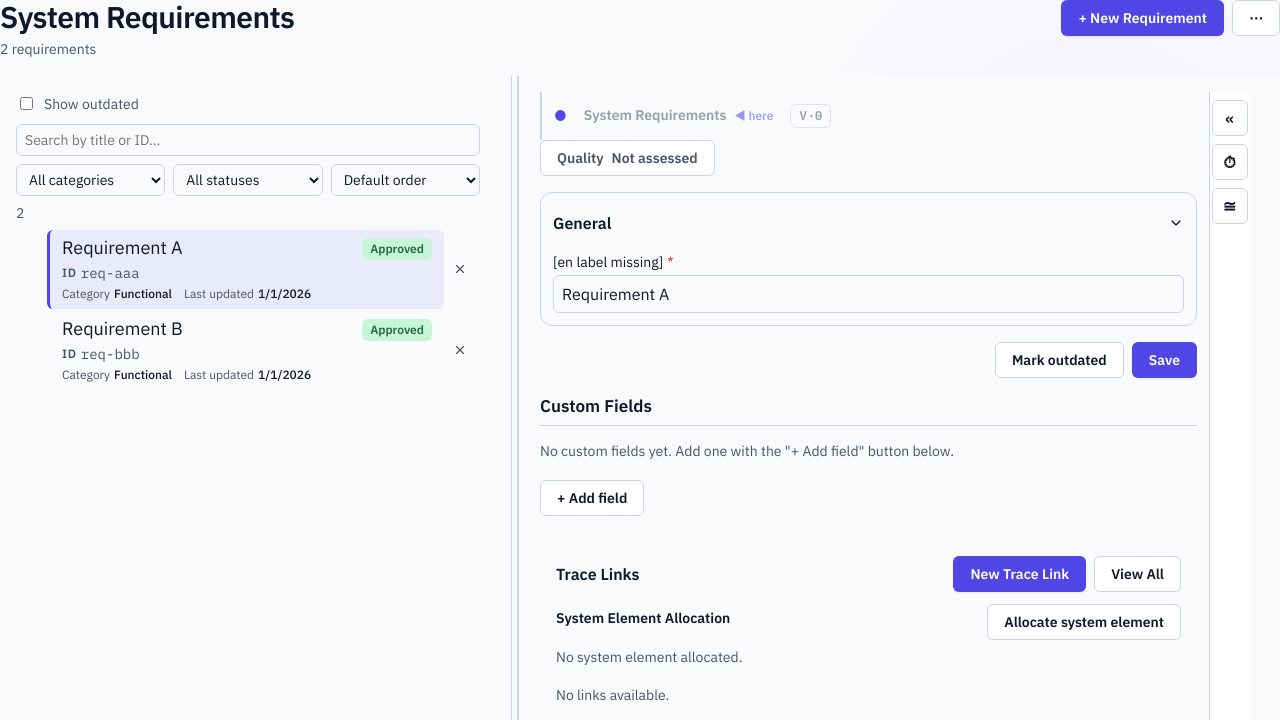
Test case: RequirementEditors — unsaved-changes confirmation before tree navigation (#672) › navigates and discards the unsaved edit once the user confirms
Replace the text in the field with test id "artifact-field-title" with "Unsaved edit": (868, 294) x1=553 y1=275 x2=1184 y2=313
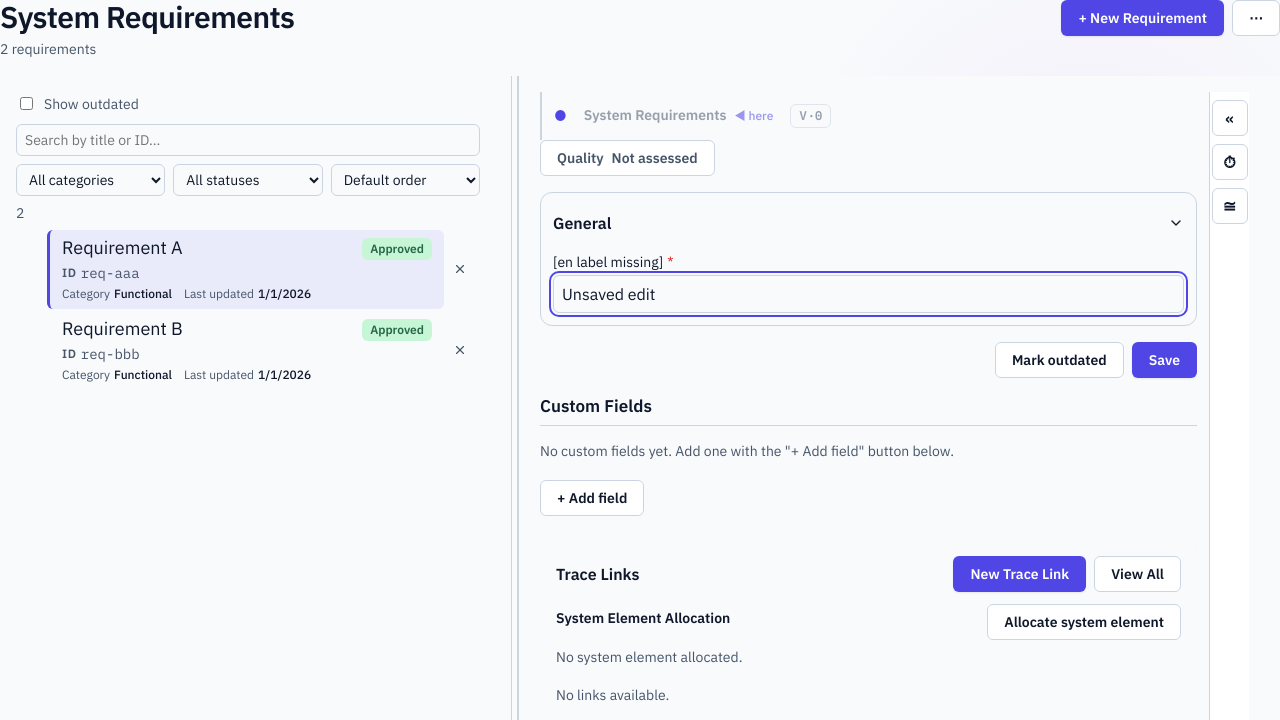
Click the list item that starts with "Requirement B": (122, 329) x1=16 y1=310 x2=480 y2=390
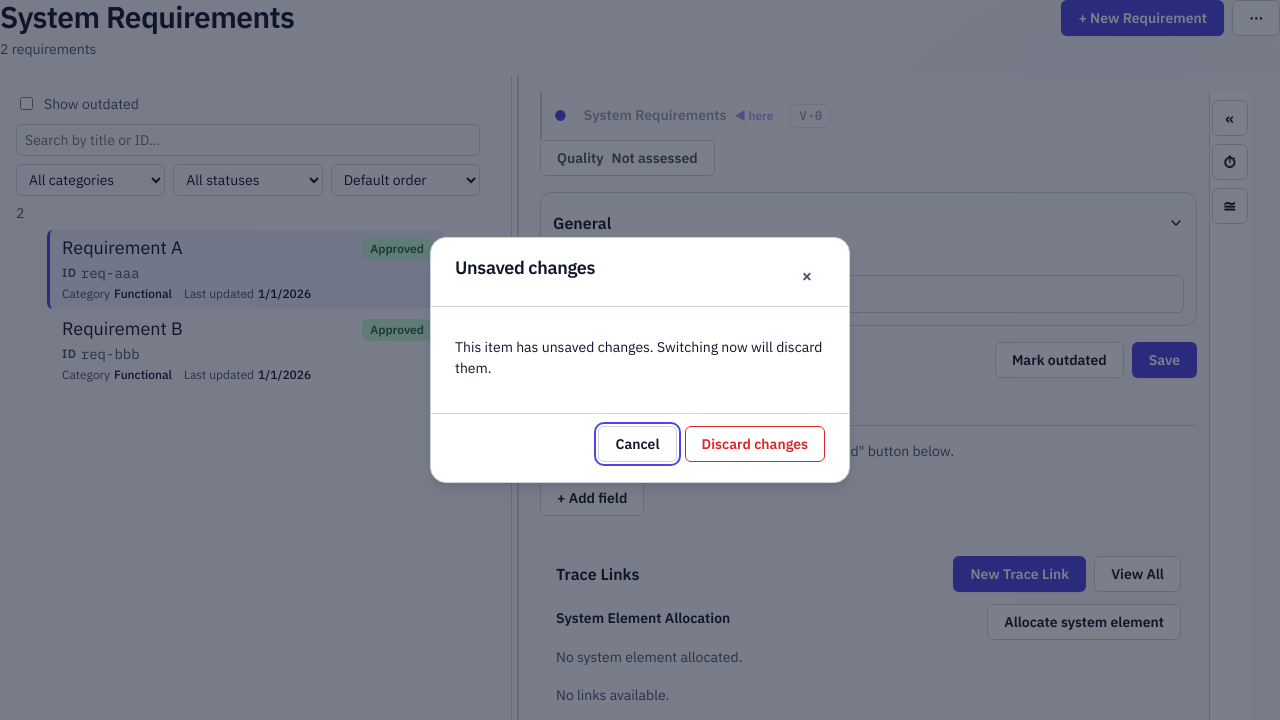
Expected: the dialog with test id "req-unsaved-changes-dialog" is shown, x1=430 y1=237 x2=850 y2=483
Click the button with test id "req-unsaved-changes-dialog-confirm": (755, 444) x1=684 y1=426 x2=825 y2=462
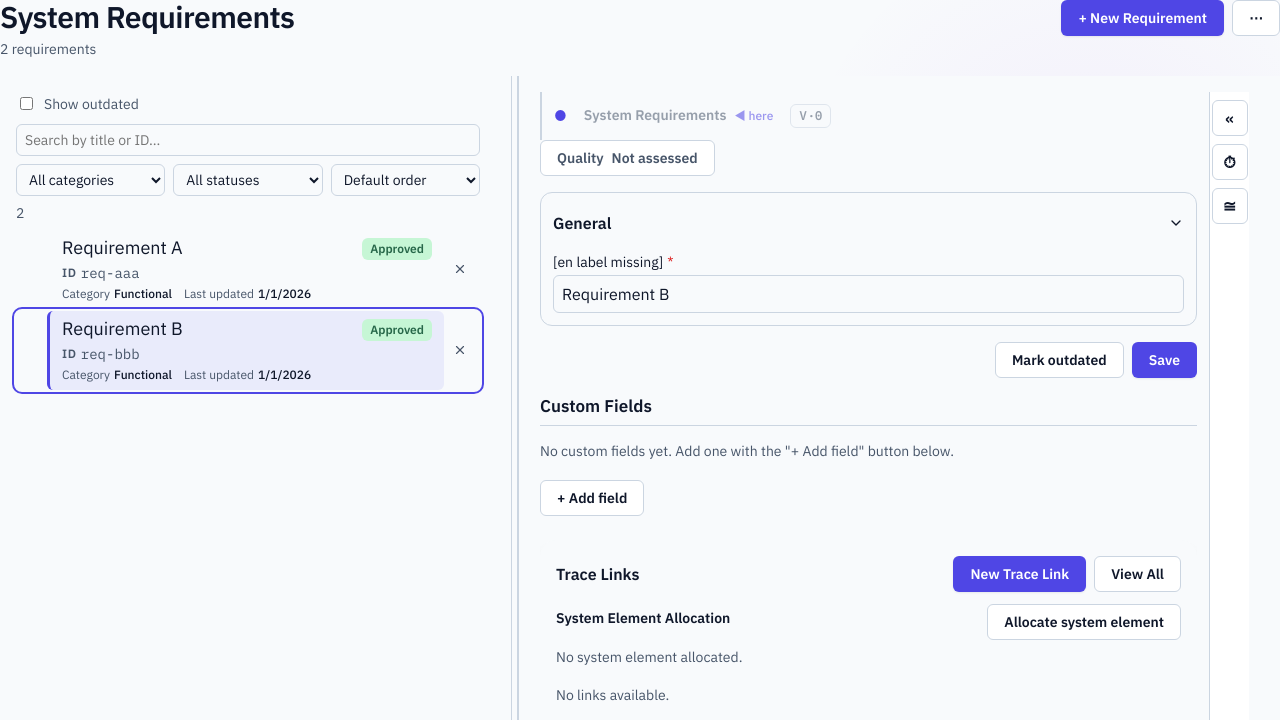
Expected: the field with test id "artifact-field-title" holds "Requirement B", x1=553 y1=275 x2=1184 y2=313
Expected: the dialog with test id "req-unsaved-changes-dialog" is gone
